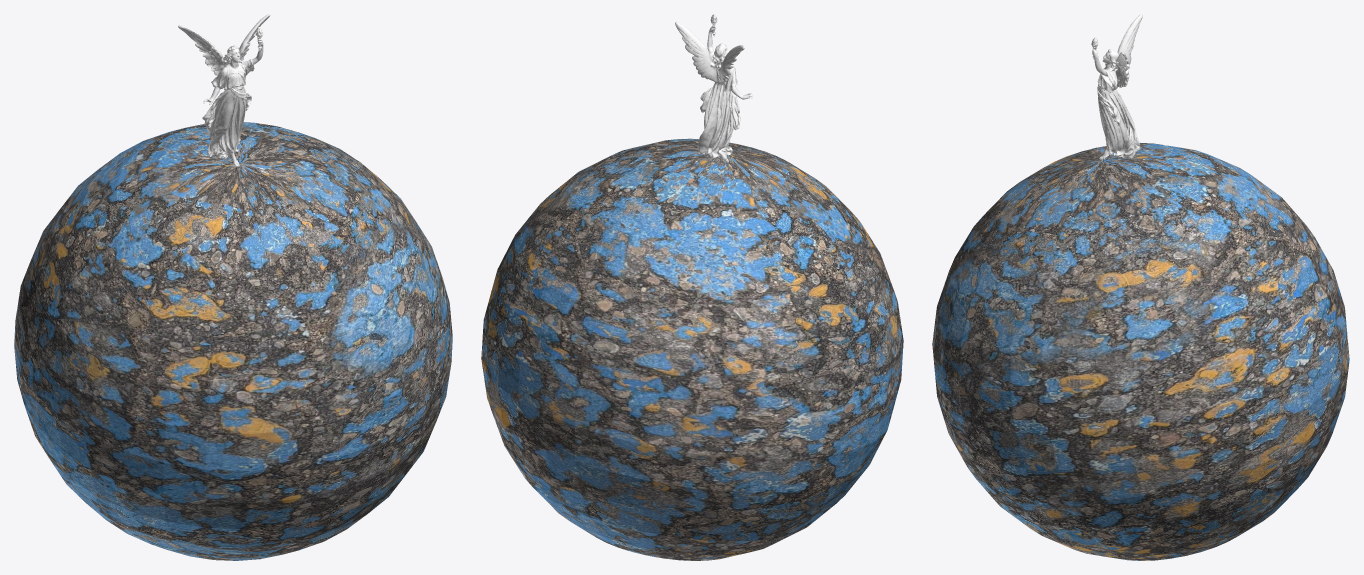
File: earth_angel.glb
The picture shows the model from 3 angles, left to right: view 1: azimuth 30°, elevation 25°; view 2: azimuth 150°, elevation 25°; view 3: azimuth 270°, elevation 25°; orthographic projection. The views are drawn at different scales.
Visible parts, largest first — view 1: Sphere, Mesh_0.002; view 2: Sphere, Mesh_0.002; view 3: Sphere, Mesh_0.002.
Boxes of the visible parts, bbox=[...] form: Sphere: bbox=[14, 122, 452, 560]; Mesh_0.002: bbox=[178, 14, 270, 166]; Sphere: bbox=[481, 138, 903, 560]; Mesh_0.002: bbox=[675, 14, 752, 162]; Sphere: bbox=[932, 143, 1349, 560]; Mesh_0.002: bbox=[1091, 14, 1142, 159].
Bounding box in the file's own units: 3.49 × 4.66 × 3.49.
2 materials, 1 textured.
